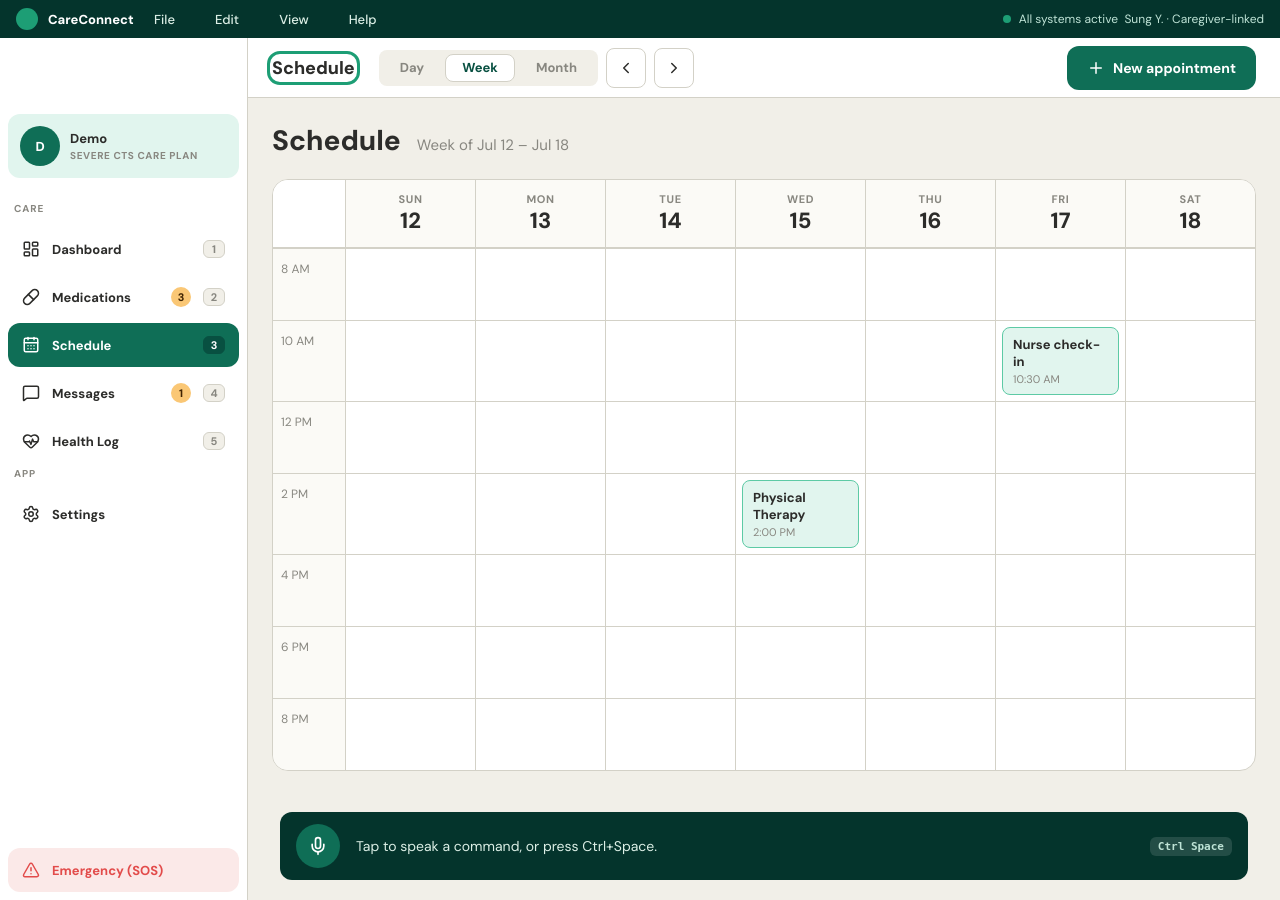
Test case: voice commands › announces when a spoken date or time is not understood
The width and height of the screenshot is (1280, 900).
Check: the 1st heading "Schedule" is shown, box [272, 56, 355, 80]
Click the button named "Start voice command": point(318, 846) [296, 824, 340, 868]
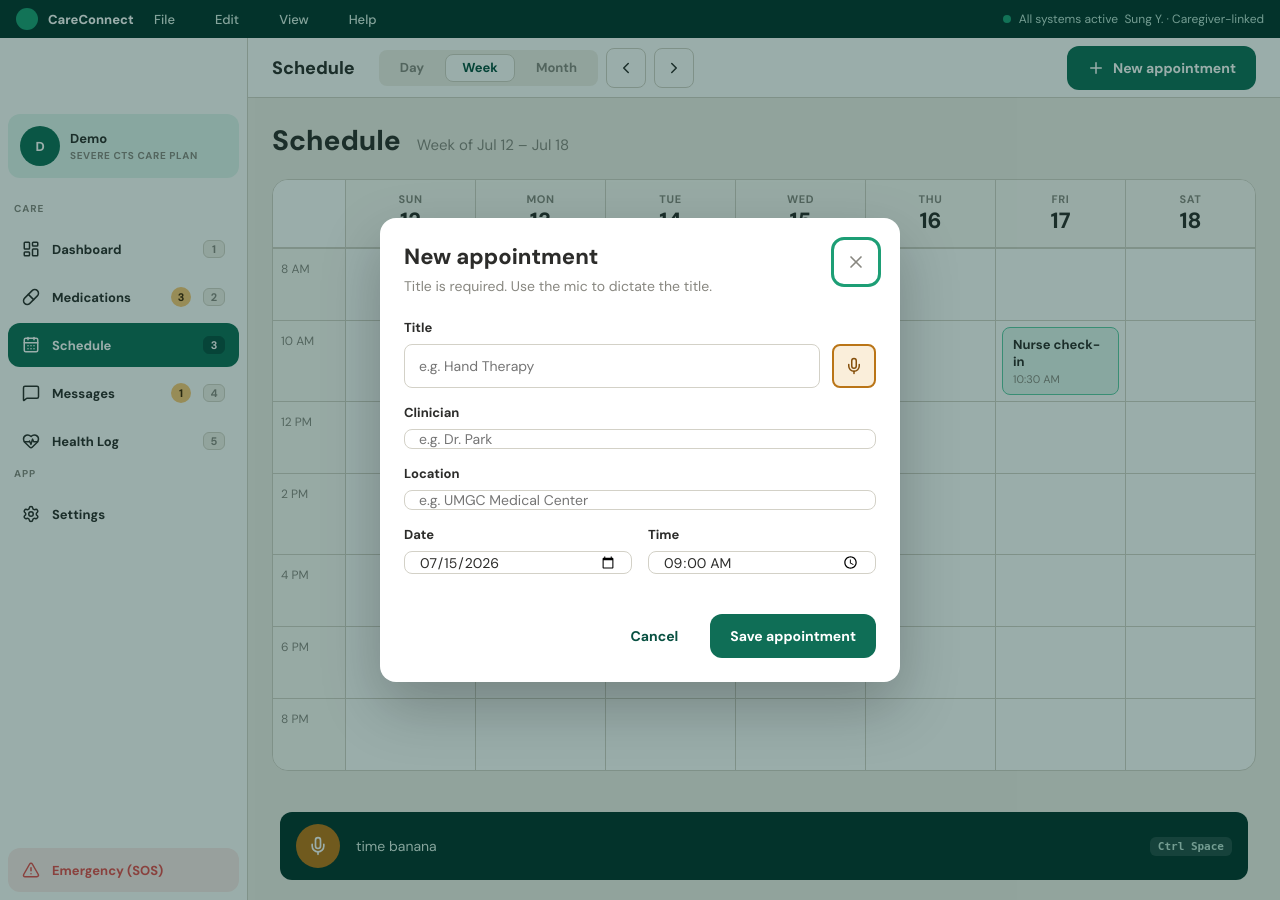
Check: the dialog "New appointment" is shown, box [380, 218, 900, 682]
